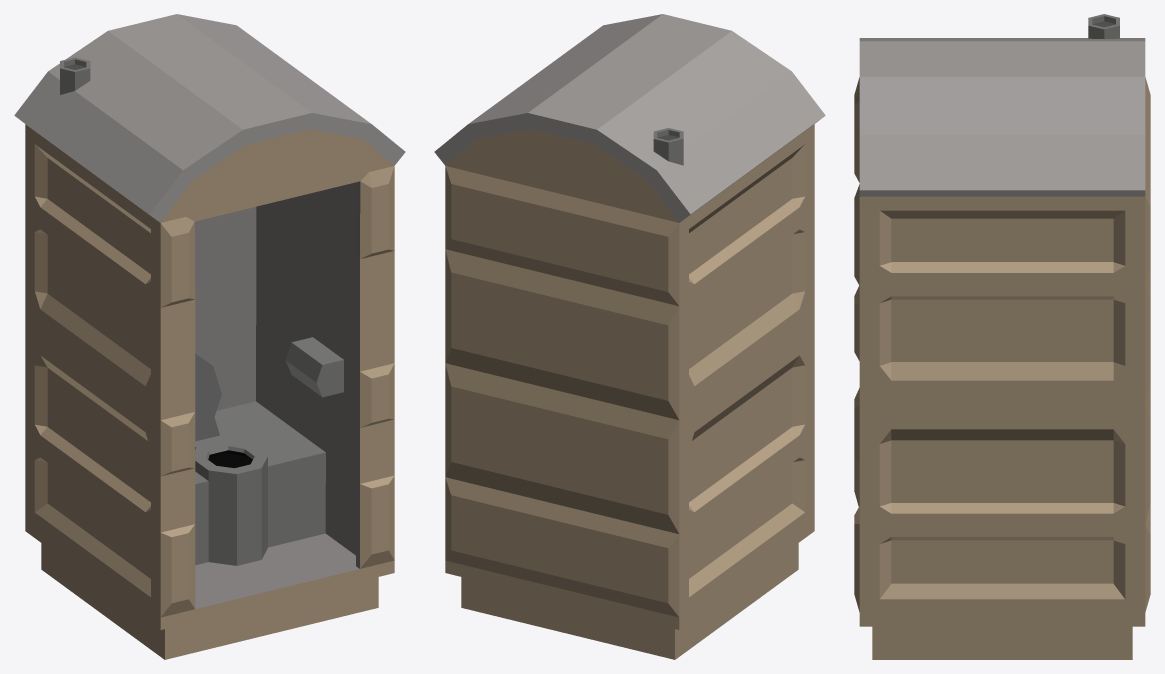
File: SM_Prop_Portaloo_01.glb
3 renders of one model, left to right at view 1: azimuth 30°, elevation 25°; view 2: azimuth 150°, elevation 25°; view 3: azimuth 270°, elevation 25°, orthographic. The views are drawn at different scales.
Visible parts, largest first — view 1: SM_Prop_Portaloo_01; view 2: SM_Prop_Portaloo_01; view 3: SM_Prop_Portaloo_01.
Boxes of the visible parts, x1,y1,x2,y2 form: SM_Prop_Portaloo_01: (14,14,405,659); SM_Prop_Portaloo_01: (434,14,825,659); SM_Prop_Portaloo_01: (854,14,1150,659).
Bounding box in the file's own units: 1.63 × 3.14 × 1.55.
1 material, 1 textured.
